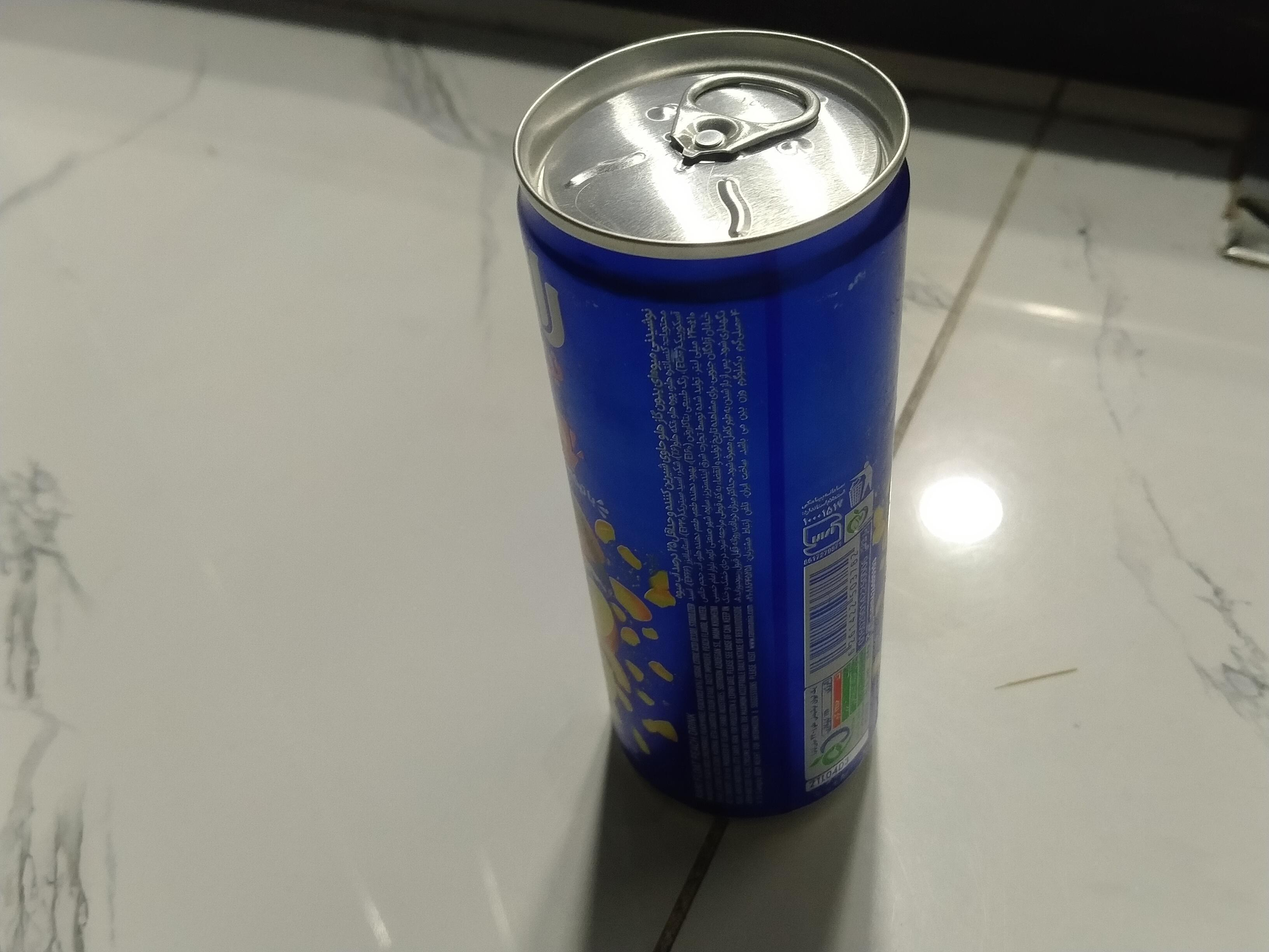tin can: (514, 20, 916, 818)
